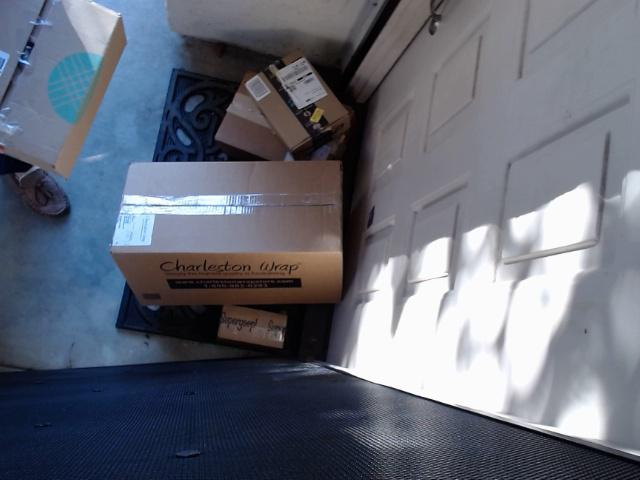box: (92, 146, 391, 318), (0, 0, 131, 192), (200, 44, 354, 182), (241, 58, 344, 156), (203, 291, 319, 364)
